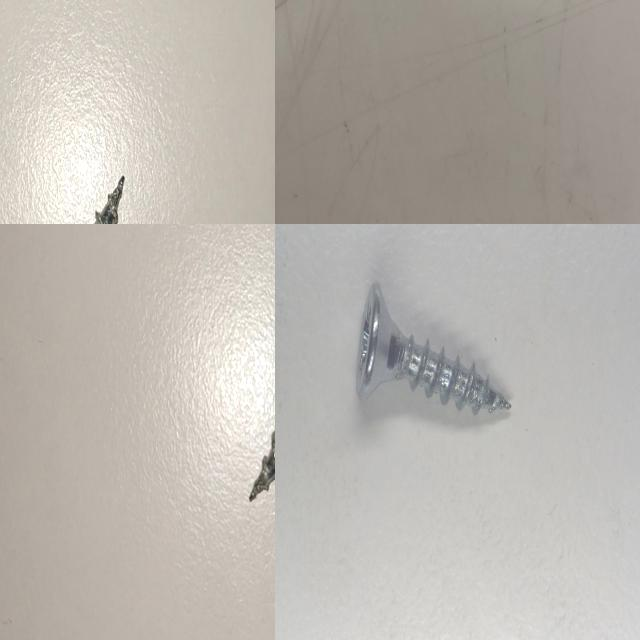Screw: (355, 282, 511, 414)
